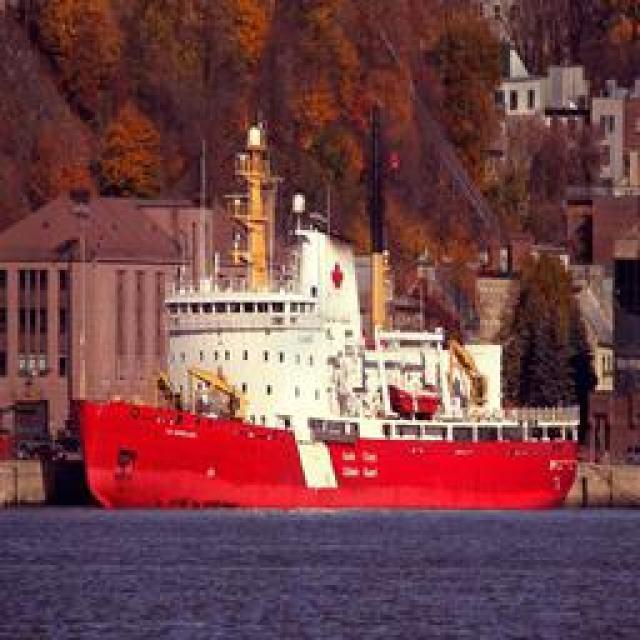CIV_Ship: (79, 378, 582, 518)
